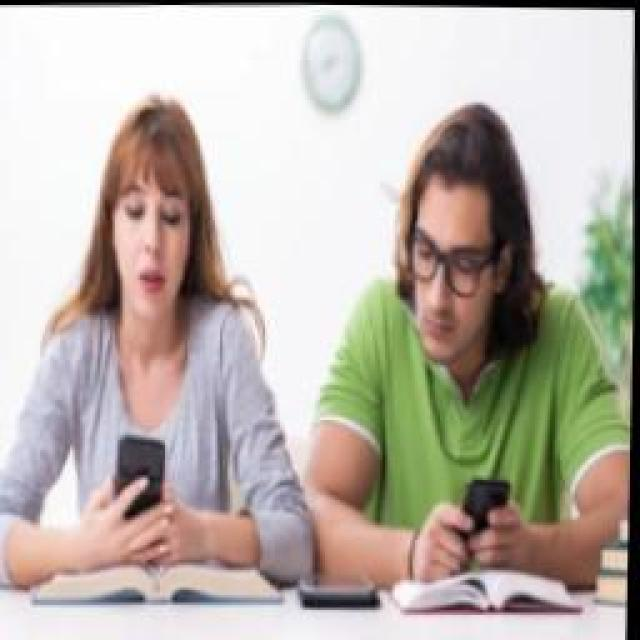phone: (298, 95, 638, 585), (0, 92, 322, 587)
